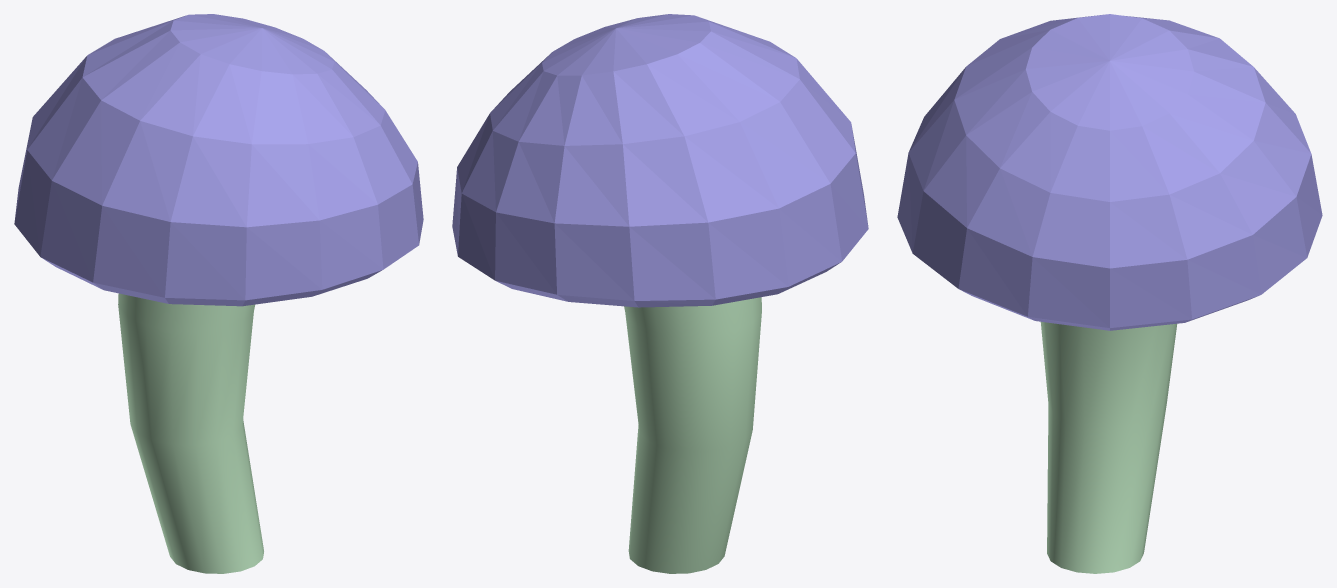
Rendered from champiviolet.FBX.
3 renders of one model, left to right at view 1: azimuth 30°, elevation 25°; view 2: azimuth 150°, elevation 25°; view 3: azimuth 270°, elevation 25°, orthographic. The views are drawn at different scales.
Visible parts, largest first — view 1: Sphere001; view 2: Sphere001; view 3: Sphere001.
Boxes of the visible parts, x1,y1,x2,y2 form: Sphere001: [14, 14, 423, 573]; Sphere001: [452, 14, 868, 573]; Sphere001: [897, 14, 1322, 573].
Size of the model in its own units: 46.44 by 63.99 by 47.01.
